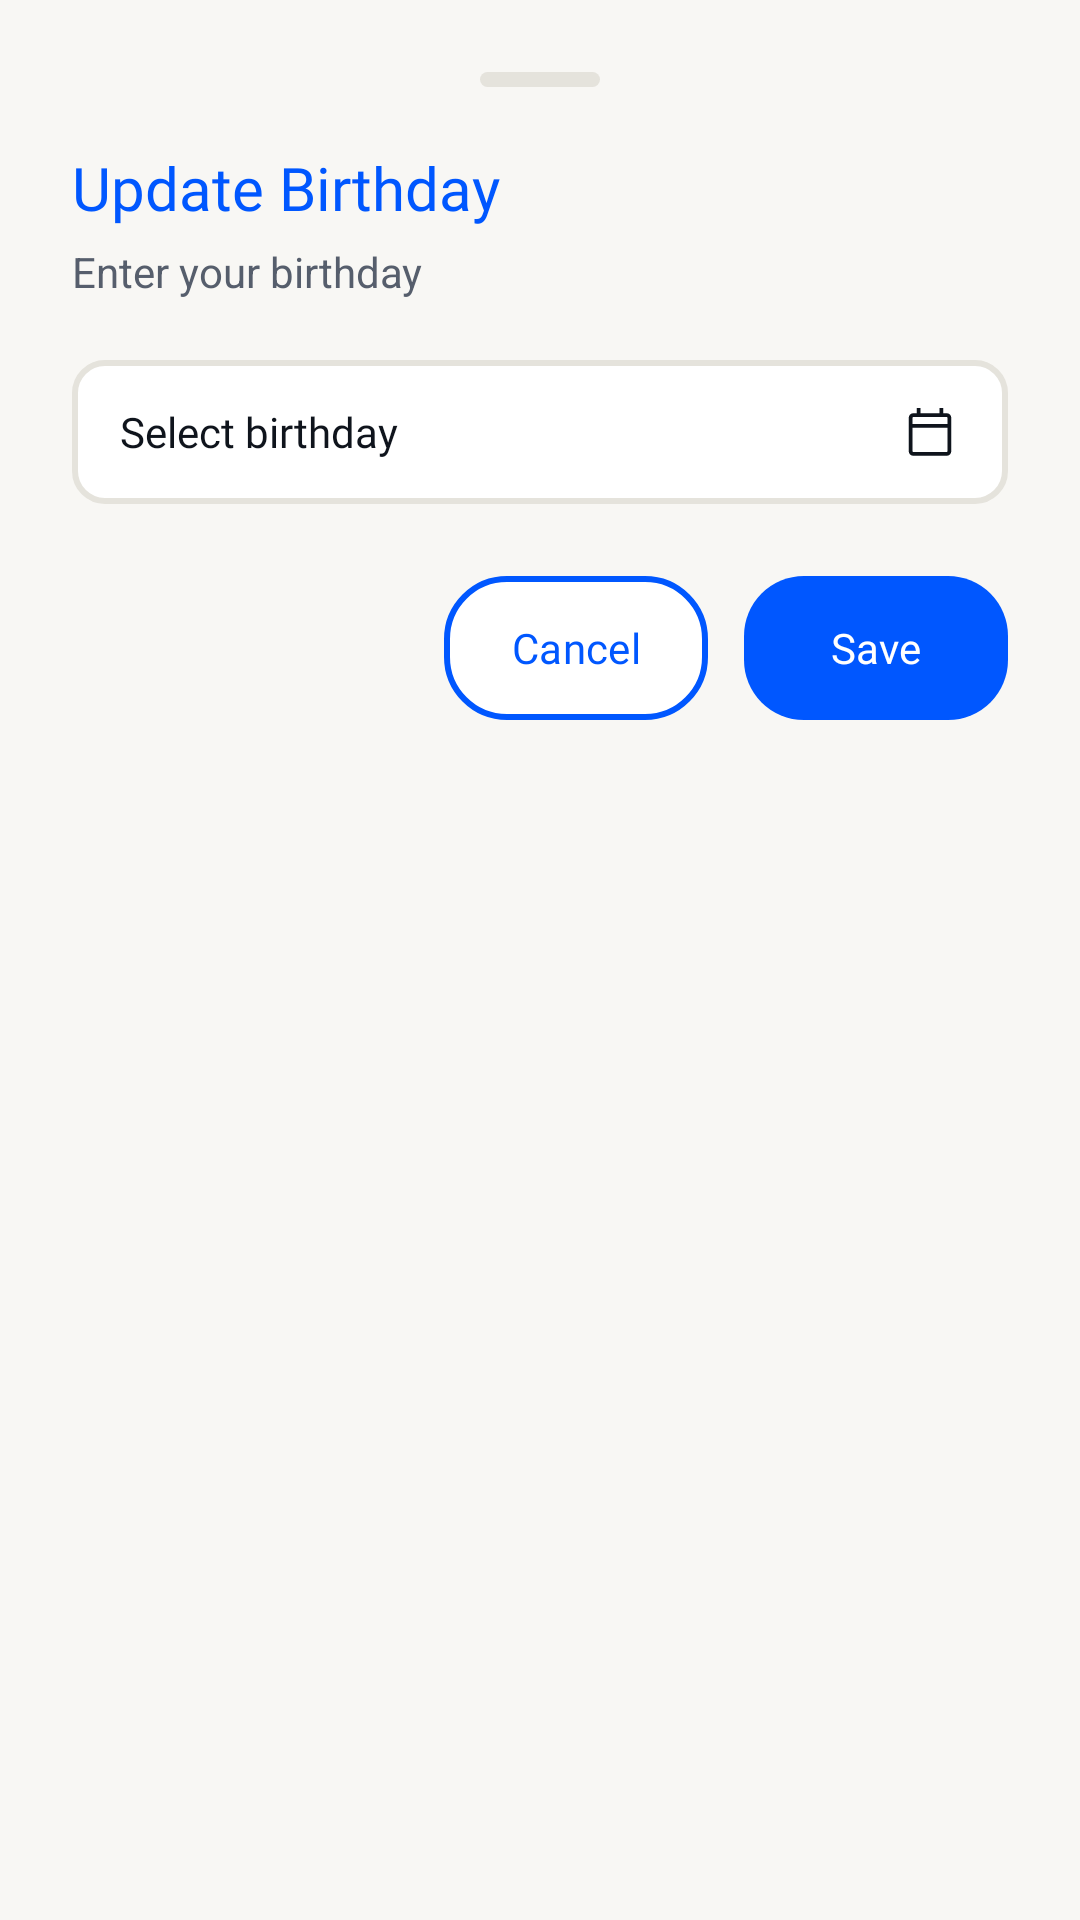

Icon bounding boxes for this 1080 × 1920 phone screenshot, format {"left": x1, "top": y1, "right": x2, "bottom": y2}:
calendar: {"left": 908, "top": 408, "right": 952, "bottom": 456}
